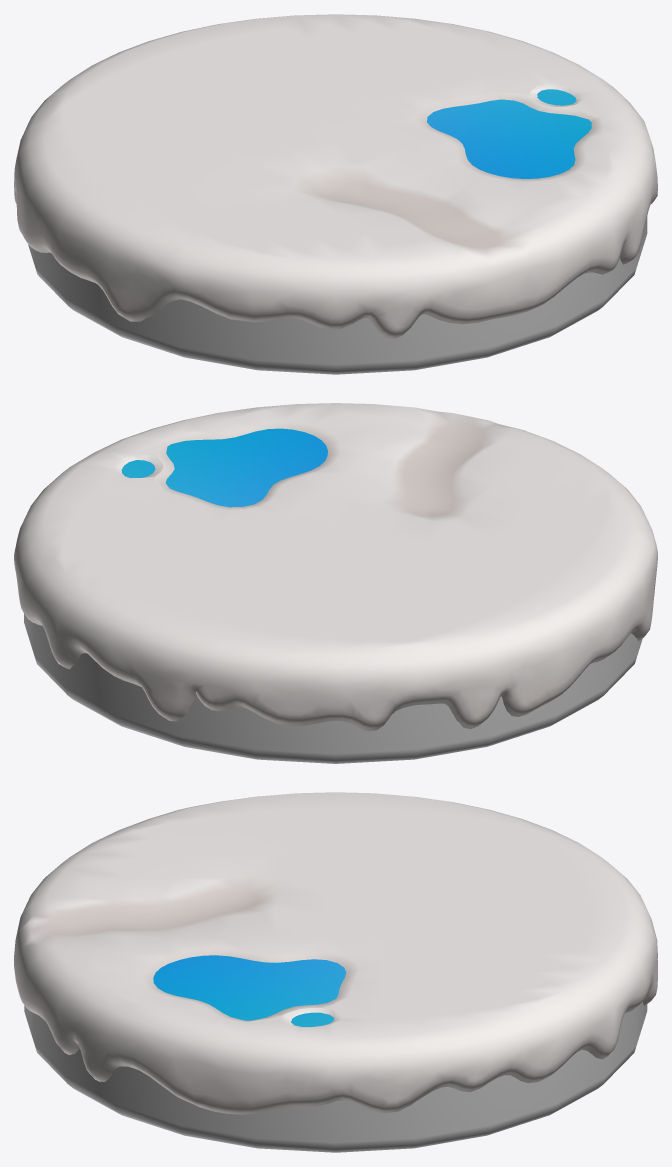
Rendered from Plantform_001.fbx.
3 renders of one model, top to bottom at view 1: azimuth 30°, elevation 25°; view 2: azimuth 150°, elevation 25°; view 3: azimuth 270°, elevation 25°, orthographic.
Visible parts, largest first — view 1: Plantform_001; view 2: Plantform_001; view 3: Plantform_001.
Part boxes in pixels (x1,y1,x2,y2): Plantform_001: (14,14,657,374); Plantform_001: (14,403,657,763); Plantform_001: (14,792,657,1152).
Size of the model in its own units: 1726 by 1726 by 330.
